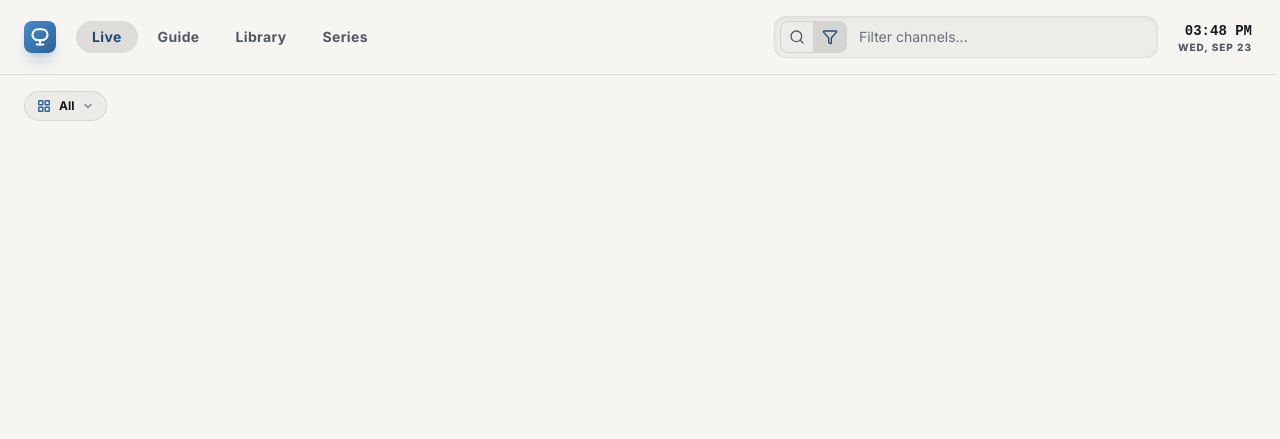
Test: Live TV's content filter › offers every filter the chips did
Click the button "All": (66,106) x1=24 y1=91 x2=108 y2=121
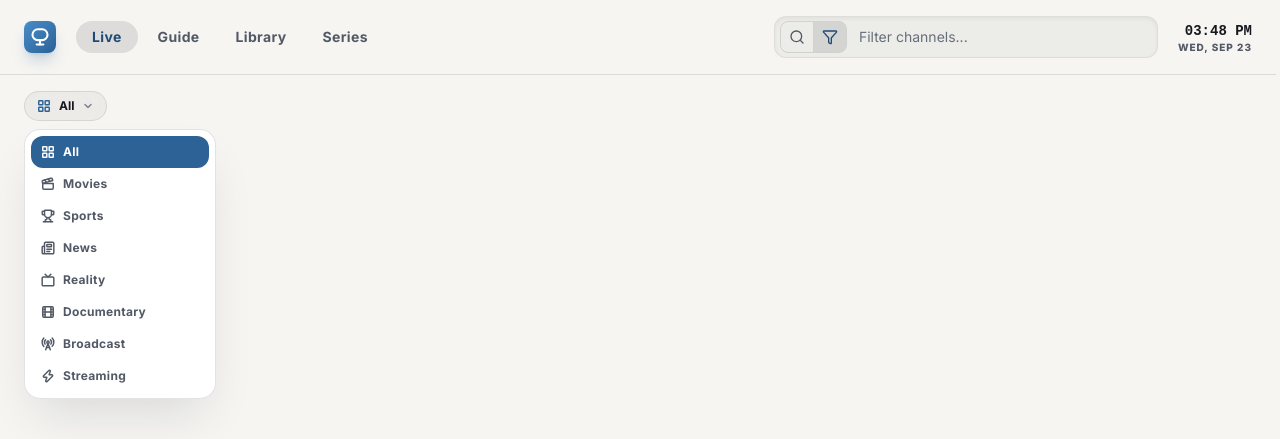
Check: the menu item "All" is shown, box x1=31 y1=136 x2=209 y2=168
Check: the menu item "Movies" is shown, box x1=31 y1=168 x2=209 y2=200
Check: the menu item "Sports" is shown, box x1=31 y1=200 x2=209 y2=232
